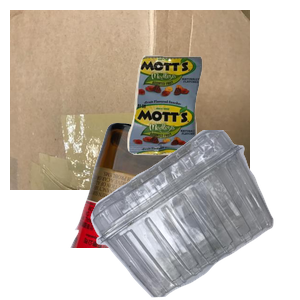cardboard: (10, 10, 250, 190)
glass: (68, 120, 255, 300)
plastic: (88, 130, 300, 300)
trash: (125, 53, 300, 201)
